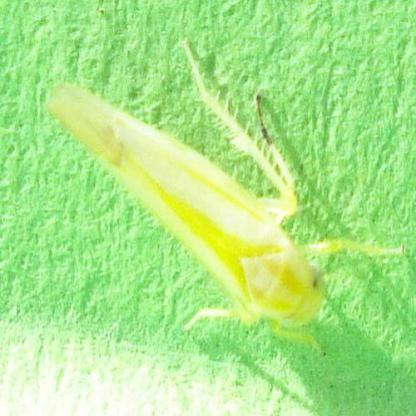green-leafhopper: (44, 86, 334, 339)
